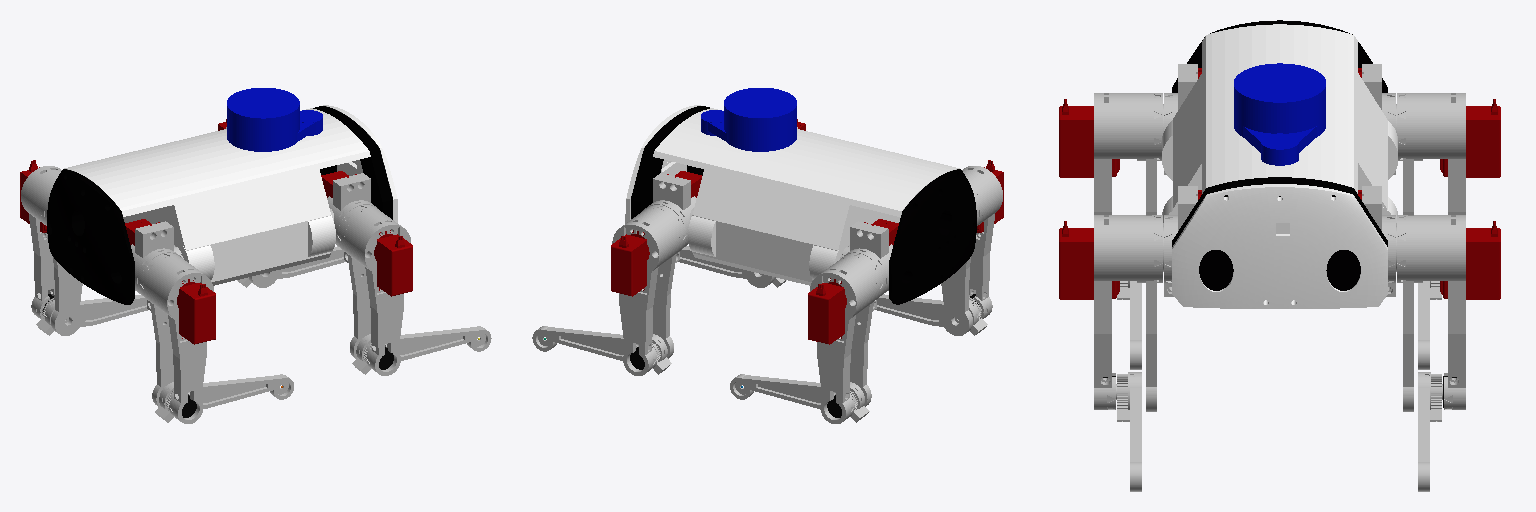
robot.urdf — brian:
<?xml version="1.0"?>
<robot name="brian">
  <link name="base_link">
    <visual>
      <geometry>
        <mesh filename= "package://brian_description/mesh_files/dae_files/base.dae"/>
      </geometry>
    </visual>
    <inertial>
      <origin xyz="0.000 0.000 0.000" rpy ="0.000 0.000 0.000"/>
      <mass value="2.000"/>
      <inertia
        ixx="0.03562" ixy="0.00000" ixz="0.00000"
        iyy="0.04262" iyz="0.00000"
        izz="0.04508"/>
    </inertial>
    <collision>
      <origin xyz="0.000 0.000 0.000" rpy ="0.000 0.000 0.000"/>
      <geometry>
        <mesh filename= "package://brian_description/mesh_files/stl_files/base.stl"/>
      </geometry>
    </collision>
  </link>

  <link name="lidar_link">
    <visual>
      <geometry>
        <mesh filename= "package://brian_description/mesh_files/dae_files/lidar.dae"/>
      </geometry>
    </visual>
    <inertial>
      <origin xyz="0.000 0.000 0.000" rpy ="0.000 0.000 0.000"/>
      <mass value="0.050"/>
      <inertia
        ixx="0.00092" ixy="0.00000" ixz="0.00001"
        iyy="0.00094" iyz="0.00000"
        izz="0.00093"/>
    </inertial>
    <collision>
      <origin xyz="0.000 0.000 0.000" rpy ="0.000 0.000 0.000"/>
      <geometry>
        <mesh filename= "package://brian_description/mesh_files/stl_files/lidar.stl"/>
      </geometry>
    </collision>
  </link>

  <link name="hip_fl_ref">
    <visual>
      <geometry>
        <box size="0.002 0.002 0.002"/>
      </geometry>
    </visual>
    <inertial>
      <origin xyz="0.000 0.000 0.000" rpy ="0.000 0.000 0.000"/>
      <mass value="0.000"/>
      <inertia
        ixx="0.00000" ixy="0.00000" ixz="0.00000"
        iyy="0.00000" iyz="0.00000"
        izz="0.00000"/>
    </inertial>
    <collision>
      <origin xyz="0.000 0.000 0.000" rpy ="0.000 0.000 0.000"/>
      <geometry>
        <box size="0.002 0.002 0.002"/>
      </geometry>
    </collision>
  </link>

  <link name="hip_fr_ref">
    <visual>
      <geometry>
        <box size="0.002 0.002 0.002"/>
      </geometry>
    </visual>
    <inertial>
      <origin xyz="0.000 0.000 0.000" rpy ="0.000 0.000 0.000"/>
      <mass value="0.000"/>
      <inertia
        ixx="0.00000" ixy="0.00000" ixz="0.00000"
        iyy="0.00000" iyz="0.00000"
        izz="0.00000"/>
    </inertial>
    <collision>
      <origin xyz="0.000 0.000 0.000" rpy ="0.000 0.000 0.000"/>
      <geometry>
        <box size="0.002 0.002 0.002"/>
      </geometry>
    </collision>
  </link>

  <link name="hip_bl_ref">
    <visual>
      <geometry>
        <box size="0.002 0.002 0.002"/>
      </geometry>
    </visual>
    <inertial>
      <origin xyz="0.000 0.000 0.000" rpy ="0.000 0.000 0.000"/>
      <mass value="0.000"/>
      <inertia
        ixx="0.00000" ixy="0.00000" ixz="0.00000"
        iyy="0.00000" iyz="0.00000"
        izz="0.00000"/>
    </inertial>
    <collision>
      <origin xyz="0.000 0.000 0.000" rpy ="0.000 0.000 0.000"/>
      <geometry>
        <box size="0.002 0.002 0.002"/>
      </geometry>
    </collision>
  </link>

  <link name="hip_br_ref">
    <visual>
      <geometry>
        <box size="0.002 0.002 0.002"/>
      </geometry>
    </visual>
    <inertial>
      <origin xyz="0.000 0.000 0.000" rpy ="0.000 0.000 0.000"/>
      <mass value="0.000"/>
      <inertia
        ixx="0.00000" ixy="0.00000" ixz="0.00000"
        iyy="0.00000" iyz="0.00000"
        izz="0.00000"/>
    </inertial>
    <collision>
      <origin xyz="0.000 0.000 0.000" rpy ="0.000 0.000 0.000"/>
      <geometry>
        <box size="0.002 0.002 0.002"/>
      </geometry>
    </collision>
  </link>

  <link name="hip_fl_link">
    <visual>
      <geometry>
        <mesh filename= "package://brian_description/mesh_files/dae_files/hip_fl.dae"/>
      </geometry>
    </visual>
    <inertial>
      <origin xyz="0.000 0.000 0.000" rpy ="0.000 0.000 0.000"/>
      <mass value="0.233"/>
      <inertia
        ixx="0.00216" ixy="-0.00001" ixz="0.00001"
        iyy="0.00216" iyz="0.00001"
        izz="0.00211"/>
    </inertial>
    <collision>
      <origin xyz="0.000 0.000 0.000" rpy ="0.000 0.000 0.000"/>
      <geometry>
        <mesh filename= "package://brian_description/mesh_files/stl_files/hip_fl.stl"/>
      </geometry>
    </collision>
  </link>

  <link name="hip_fr_link">
    <visual>
      <geometry>
        <mesh filename= "package://brian_description/mesh_files/dae_files/hip_fr.dae"/>
      </geometry>
    </visual>
    <inertial>
      <origin xyz="0.000 0.000 0.000" rpy ="0.000 0.000 0.000"/>
      <mass value="0.233"/>
      <inertia
        ixx="0.00216" ixy="0.00001" ixz="0.00001"
        iyy="0.00216" iyz="-0.00001"
        izz="0.00211"/>
    </inertial>
    <collision>
      <origin xyz="0.000 0.000 0.000" rpy ="0.000 0.000 0.000"/>
      <geometry>
        <mesh filename= "package://brian_description/mesh_files/stl_files/hip_fr.stl"/>
      </geometry>
    </collision>
  </link>

  <link name="hip_bl_link">
    <visual>
      <geometry>
        <mesh filename= "package://brian_description/mesh_files/dae_files/hip_bl.dae"/>
      </geometry>
    </visual>
    <inertial>
      <origin xyz="0.000 0.000 0.000" rpy ="0.000 0.000 0.000"/>
      <mass value="0.233"/>
      <inertia
        ixx="0.00216" ixy="0.00001" ixz="-0.00001"
        iyy="0.00216" iyz="0.00001"
        izz="0.00211"/>
    </inertial>
    <collision>
      <origin xyz="0.000 0.000 0.000" rpy ="0.000 0.000 0.000"/>
      <geometry>
        <mesh filename= "package://brian_description/mesh_files/stl_files/hip_bl.stl"/>
      </geometry>
    </collision>
  </link>

  <link name="hip_br_link">
    <visual>
      <geometry>
        <mesh filename= "package://brian_description/mesh_files/dae_files/hip_br.dae"/>
      </geometry>
    </visual>
    <inertial>
      <origin xyz="0.000 0.000 0.000" rpy ="0.000 0.000 0.000"/>
      <mass value="0.233"/>
      <inertia
        ixx="0.00216" ixy="-0.00001" ixz="-0.00001"
        iyy="0.00216" iyz="-0.00001"
        izz="0.00211"/>
    </inertial>
    <collision>
      <origin xyz="0.000 0.000 0.000" rpy ="0.000 0.000 0.000"/>
      <geometry>
        <mesh filename= "package://brian_description/mesh_files/stl_files/hip_br.stl"/>
      </geometry>
    </collision>
  </link>

  <link name="femur_fl_link">
    <visual>
      <geometry>
        <mesh filename= "package://brian_description/mesh_files/dae_files/femur_l.dae"/>
      </geometry>
    </visual>
    <inertial>
      <origin xyz="0.000 0.000 0.000" rpy ="0.000 0.000 0.000"/>
      <mass value="0.084"/>
      <inertia
        ixx="0.00414" ixy="0.00000" ixz="0.00000"
        iyy="0.00410" iyz="0.00006"
        izz="0.00386"/>
    </inertial>
    <collision>
      <origin xyz="0.000 0.000 0.000" rpy ="0.000 0.000 0.000"/>
      <geometry>
        <mesh filename= "package://brian_description/mesh_files/stl_files/femur_l.stl"/>
      </geometry>
    </collision>
  </link>

  <link name="femur_fr_link">
    <visual>
      <geometry>
        <mesh filename= "package://brian_description/mesh_files/dae_files/femur_r.dae"/>
      </geometry>
    </visual>
    <inertial>
      <origin xyz="0.000 0.000 0.000" rpy ="0.000 0.000 0.000"/>
      <mass value="0.084"/>
      <inertia
        ixx="0.00414" ixy="0.00000" ixz="0.00000"
        iyy="0.00410" iyz="-0.00006"
        izz="0.00386"/>
    </inertial>
    <collision>
      <origin xyz="0.000 0.000 0.000" rpy ="0.000 0.000 0.000"/>
      <geometry>
        <mesh filename= "package://brian_description/mesh_files/stl_files/femur_r.stl"/>
      </geometry>
    </collision>
  </link>

  <link name="femur_bl_link">
    <visual>
      <geometry>
        <mesh filename= "package://brian_description/mesh_files/dae_files/femur_l.dae"/>
      </geometry>
    </visual>
    <inertial>
      <origin xyz="0.000 0.000 0.000" rpy ="0.000 0.000 0.000"/>
      <mass value="0.084"/>
      <inertia
        ixx="0.00414" ixy="0.00000" ixz="0.00000"
        iyy="0.00410" iyz="0.00006"
        izz="0.00386"/>
    </inertial>
    <collision>
      <origin xyz="0.000 0.000 0.000" rpy ="0.000 0.000 0.000"/>
      <geometry>
        <mesh filename= "package://brian_description/mesh_files/stl_files/femur_l.stl"/>
      </geometry>
    </collision>
  </link>

  <link name="femur_br_link">
    <visual>
      <geometry>
        <mesh filename= "package://brian_description/mesh_files/dae_files/femur_r.dae"/>
      </geometry>
    </visual>
    <inertial>
      <origin xyz="0.000 0.000 0.000" rpy ="0.000 0.000 0.000"/>
      <mass value="0.084"/>
      <inertia
        ixx="0.00414" ixy="0.00000" ixz="0.00000"
        iyy="0.00410" iyz="-0.00006"
        izz="0.00386"/>
    </inertial>
    <collision>
      <origin xyz="0.000 0.000 0.000" rpy ="0.000 0.000 0.000"/>
      <geometry>
        <mesh filename= "package://brian_description/mesh_files/stl_files/femur_r.stl"/>
      </geometry>
    </collision>
  </link>

  <link name="tibia_fl_link">
    <visual>
      <geometry>
        <mesh filename= "package://brian_description/mesh_files/dae_files/tibia_l.dae"/>
      </geometry>
    </visual>
    <inertial>
      <origin xyz="0.000 0.000 0.000" rpy ="0.000 0.000 0.000"/>
      <mass value="0.034"/>
      <inertia
        ixx="0.00159" ixy="0.00000" ixz="-0.00001"
        iyy="0.00159" iyz="0.00000"
        izz="0.00147"/>
    </inertial>
    <collision>
      <origin xyz="0.000 0.000 0.000" rpy ="0.000 0.000 0.000"/>
      <geometry>
        <mesh filename= "package://brian_description/mesh_files/stl_files/tibia_l.stl"/>
      </geometry>
    </collision>
  </link>

  <link name="tibia_fr_link">
    <visual>
      <geometry>
        <mesh filename= "package://brian_description/mesh_files/dae_files/tibia_r.dae"/>
      </geometry>
    </visual>
    <inertial>
      <origin xyz="0.000 0.000 0.000" rpy ="0.000 0.000 0.000"/>
      <mass value="0.034"/>
      <inertia
        ixx="0.00159" ixy="0.00000" ixz="-0.00001"
        iyy="0.00159" iyz="0.00000"
        izz="0.00147"/>
    </inertial>
    <collision>
      <origin xyz="0.000 0.000 0.000" rpy ="0.000 0.000 0.000"/>
      <geometry>
        <mesh filename= "package://brian_description/mesh_files/stl_files/tibia_r.stl"/>
      </geometry>
    </collision>
  </link>

  <link name="tibia_bl_link">
    <visual>
      <geometry>
        <mesh filename= "package://brian_description/mesh_files/dae_files/tibia_l.dae"/>
      </geometry>
    </visual>
    <inertial>
      <origin xyz="0.000 0.000 0.000" rpy ="0.000 0.000 0.000"/>
      <mass value="0.034"/>
      <inertia
        ixx="0.00159" ixy="0.00000" ixz="-0.00001"
        iyy="0.00159" iyz="0.00000"
        izz="0.00147"/>
    </inertial>
    <collision>
      <origin xyz="0.000 0.000 0.000" rpy ="0.000 0.000 0.000"/>
      <geometry>
        <mesh filename= "package://brian_description/mesh_files/stl_files/tibia_l.stl"/>
      </geometry>
    </collision>
  </link>

  <link name="tibia_br_link">
    <visual>
      <geometry>
        <mesh filename= "package://brian_description/mesh_files/dae_files/tibia_r.dae"/>
      </geometry>
    </visual>
    <inertial>
      <origin xyz="0.000 0.000 0.000" rpy ="0.000 0.000 0.000"/>
      <mass value="0.034"/>
      <inertia
        ixx="0.00159" ixy="0.00000" ixz="-0.00001"
        iyy="0.00159" iyz="0.00000"
        izz="0.00147"/>
    </inertial>
    <collision>
      <origin xyz="0.000 0.000 0.000" rpy ="0.000 0.000 0.000"/>
      <geometry>
        <mesh filename= "package://brian_description/mesh_files/stl_files/tibia_r.stl"/>
      </geometry>
    </collision>
  </link>

  <link name="feet_fl">
    <visual>
      <geometry>
        <sphere radius="0.001"/>
      </geometry>
    </visual>
    <inertial>
      <origin xyz="0.000 0.000 0.000" rpy ="0.000 0.000 0.000"/>
      <mass value="0.010"/>
      <inertia
        ixx="0.00009" ixy="0.00000" ixz="0.00000"
        iyy="0.00009" iyz="0.00000"
        izz="0.00009"/>
    </inertial>
    <collision>
      <origin xyz="0.000 0.000 0.000" rpy ="0.000 0.000 0.000"/>
      <geometry>
        <box size="0.011 0.011 0.011"/>
      </geometry>
    </collision>
  </link>

  <link name="feet_fr">
    <visual>
      <geometry>
        <sphere radius="0.001"/>
      </geometry>
    </visual>
    <inertial>
      <origin xyz="0.000 0.000 0.000" rpy ="0.000 0.000 0.000"/>
      <mass value="0.010"/>
      <inertia
        ixx="0.00009" ixy="0.00000" ixz="0.00000"
        iyy="0.00009" iyz="0.00000"
        izz="0.00009"/>
    </inertial>
    <collision>
      <origin xyz="0.000 0.000 0.000" rpy ="0.000 0.000 0.000"/>
      <geometry>
        <box size="0.011 0.011 0.011"/>
      </geometry>
    </collision>
  </link>

  <link name="feet_bl">
    <visual>
      <geometry>
        <sphere radius="0.001"/>
      </geometry>
    </visual>
    <inertial>
      <origin xyz="0.000 0.000 0.000" rpy ="0.000 0.000 0.000"/>
      <mass value="0.010"/>
      <inertia
        ixx="0.00009" ixy="0.00000" ixz="0.00000"
        iyy="0.00009" iyz="0.00000"
        izz="0.00009"/>
    </inertial>
    <collision>
      <origin xyz="0.000 0.000 0.000" rpy ="0.000 0.000 0.000"/>
      <geometry>
        <box size="0.011 0.011 0.011"/>
      </geometry>
    </collision>
  </link>

  <link name="feet_br">
    <visual>
      <geometry>
        <sphere radius="0.001"/>
      </geometry>
    </visual>
    <inertial>
      <origin xyz="0.000 0.000 0.000" rpy ="0.000 0.000 0.000"/>
      <mass value="0.010"/>
      <inertia
        ixx="0.00009" ixy="0.00000" ixz="0.00000"
        iyy="0.00009" iyz="0.00000"
        izz="0.00009"/>
    </inertial>
    <collision>
      <origin xyz="0.000 0.000 0.000" rpy ="0.000 0.000 0.000"/>
      <geometry>
        <box size="0.011 0.011 0.011"/>
      </geometry>
    </collision>
  </link>





  <joint name="lidar" type="fixed" dont_collapse="true">
    <parent link="base_link"/>
    <child  link="lidar_link"/>
    <origin xyz="0.04312 0.00000 0.08341"/>
  </joint>

  <joint name="fl_ref" type="fixed" dont_collapse="true">
    <parent link="base_link"/>
    <child  link="hip_fl_ref"/>
    <origin xyz="0.09170 0.05355 -0.00279"/>
  </joint>

  <joint name="fr_ref" type="fixed" dont_collapse="true">
    <parent link="base_link"/>
    <child  link="hip_fr_ref"/>
    <origin xyz="0.09170 -0.05355 -0.00279"/>
  </joint>

  <joint name="bl_ref" type="fixed" dont_collapse="true">
    <parent link="base_link"/>
    <child  link="hip_bl_ref"/>
    <origin xyz="-0.09170 0.05355 -0.00279"/>
  </joint>

  <joint name="br_ref" type="fixed" dont_collapse="true">
    <parent link="base_link"/>
    <child  link="hip_br_ref"/>
    <origin xyz="-0.09170 -0.05355 -0.00279"/>
  </joint>

  <joint name="hip1_fl" type="revolute">
    <axis xyz="1.000 0.000 0.000"/>
    <limit effort="80.00000" lower="-1.571" upper="1.2010" velocity="1.04720"/>
    <parent link="hip_fl_ref"/>
    <child  link="hip_fl_link"/>
    <origin xyz="0.00000 0.00000 0.00000"/>
  </joint>

  <joint name="hip1_fr" type="revolute">
    <axis xyz="1.000 0.000 0.000"/>
    <limit effort="80.00000" lower="-1.2010" upper="1.571" velocity="1.04720"/>
    <parent link="hip_fr_ref"/>
    <child  link="hip_fr_link"/>
    <origin xyz="0.00000 0.00000 0.00000"/>
  </joint>

  <joint name="hip1_bl" type="revolute">
    <axis xyz="1.000 0.000 0.000"/>
    <limit effort="80.00000" lower="-1.571" upper="1.2010" velocity="1.04720"/>
    <parent link="hip_bl_ref"/>
    <child  link="hip_bl_link"/>
    <origin xyz="0.00000 0.00000 0.00000"/>
  </joint>

  <joint name="hip1_br" type="revolute">
    <axis xyz="1.000 0.000 0.000"/>
    <limit effort="80.00000" lower="-1.2010" upper="1.571" velocity="1.04720"/>
    <parent link="hip_br_ref"/>
    <child  link="hip_br_link"/>
    <origin xyz="0.00000 0.00000 0.00000"/>
  </joint>

  <joint name="hip2_fl" type="revolute">
    <axis xyz="0.000 1.000 0.000"/>
    <limit effort="80.00000" lower="0.00000" upper="2.35619" velocity="1.04720"/>
    <parent link="hip_fl_link"/>
    <child  link="femur_fl_link"/>
    <origin xyz="0.00000 0.03559 0.00000"/>
  </joint>

  <joint name="hip2_fr" type="revolute">
    <axis xyz="0.000 1.000 0.000"/>
    <limit effort="80.00000" lower="0.00000" upper="2.35619" velocity="1.04720"/>
    <parent link="hip_fr_link"/>
    <child  link="femur_fr_link"/>
    <origin xyz="0.00000 -0.03559 0.00000"/>
  </joint>

  <joint name="hip2_bl" type="revolute">
    <axis xyz="0.000 1.000 0.000"/>
    <limit effort="80.00000" lower="0.00000" upper="2.35619" velocity="1.04720"/>
    <parent link="hip_bl_link"/>
    <child  link="femur_bl_link"/>
    <origin xyz="0.00000 0.03559 0.00000"/>
  </joint>

  <joint name="hip2_br" type="revolute">
    <axis xyz="0.000 1.000 0.000"/>
    <limit effort="80.00000" lower="0.00000" upper="2.35619" velocity="1.04720"/>
    <parent link="hip_br_link"/>
    <child  link="femur_br_link"/>
    <origin xyz="0.00000 -0.03559 0.00000"/>
  </joint>

  <joint name="knee_fl" type="revolute">
    <axis xyz="0.000 1.000 0.000"/>
    <limit effort="80.00000" lower="-2.35619" upper="-0.52360" velocity="1.04720"/>
    <parent link="femur_fl_link"/>
    <child  link="tibia_fl_link"/>
    <origin xyz="0.00000 0.01071 -0.09996"/>
  </joint>

  <joint name="knee_fr" type="revolute">
    <axis xyz="0.000 1.000 0.000"/>
    <limit effort="80.00000" lower="-2.35619" upper="-0.52360" velocity="1.04720"/>
    <parent link="femur_fr_link"/>
    <child  link="tibia_fr_link"/>
    <origin xyz="0.00000 -0.01071 -0.09996"/>
  </joint>

  <joint name="knee_bl" type="revolute">
    <axis xyz="0.000 1.000 0.000"/>
    <limit effort="80.00000" lower="-2.35619" upper="-0.52360" velocity="1.04720"/>
    <parent link="femur_bl_link"/>
    <child  link="tibia_bl_link"/>
    <origin xyz="0.00000 0.01071 -0.09996"/>
  </joint>

  <joint name="knee_br" type="revolute">
    <axis xyz="0.000 1.000 0.000"/>
    <limit effort="80.00000" lower="-2.35619" upper="-0.52360" velocity="1.04720"/>
    <parent link="femur_br_link"/>
    <child  link="tibia_br_link"/>
    <origin xyz="0.00000 -0.01071 -0.09996"/>
  </joint>

  <joint name="feet_fl_ref" type="fixed" dont_collapse="true">
    <parent link="tibia_fl_link"/>
    <child  link="feet_fl"/>
    <origin xyz="0.00000 -0.00834 -0.10000"/>
  </joint>

  <joint name="feet_fr_ref" type="fixed" dont_collapse="true">
    <parent link="tibia_fr_link"/>
    <child  link="feet_fr"/>
    <origin xyz="0.00000 0.00834 -0.10000"/>
  </joint>

  <joint name="feet_bl_ref" type="fixed" dont_collapse="true">
    <parent link="tibia_bl_link"/>
    <child  link="feet_bl"/>
    <origin xyz="0.00000 -0.00834 -0.10000"/>
  </joint>

  <joint name="feet_br_ref" type="fixed" dont_collapse="true">
    <parent link="tibia_br_link"/>
    <child  link="feet_br"/>
    <origin xyz="0.00000 0.00834 -0.10000"/>
  </joint>

</robot>

--- Render facts (derived) ---
Views: 3 orthographic renders of the robot side by side, from view 1: azimuth 30°, elevation 25°; view 2: azimuth 150°, elevation 25°; view 3: azimuth 270°, elevation 25°.
Model brian with 22 links and 21 joints (12 revolute, 9 fixed), rooted at base_link, posed all joints at 0 but 4 set to mid-range because 0 is outside their limits (knee_fl = -1.44, knee_fr = -1.44, knee_bl = -1.44, knee_br = -1.44).
Visible links, largest first — view 1: base_link, femur_br_link, femur_fr_link, femur_bl_link, lidar_link, tibia_br_link, tibia_fr_link, hip_br_link, hip_fr_link, tibia_bl_link, tibia_fl_link; view 2: base_link, femur_bl_link, femur_fl_link, femur_br_link, lidar_link, tibia_fl_link, tibia_bl_link, hip_bl_link, hip_fl_link, tibia_br_link, tibia_fr_link; view 3: base_link, femur_fl_link, femur_fr_link, femur_bl_link, femur_br_link, lidar_link, tibia_fr_link, tibia_fl_link, hip_fl_link, hip_fr_link, tibia_br_link, tibia_bl_link (+2 smaller).
Link boxes in pixels (<box>): base_link: <box>47,105,397,304</box>; femur_br_link: <box>140,253,215,423</box>; femur_fr_link: <box>338,205,412,375</box>; femur_bl_link: <box>20,160,82,335</box>; lidar_link: <box>227,88,322,151</box>; tibia_br_link: <box>155,374,293,422</box>; tibia_fr_link: <box>352,326,491,374</box>; hip_br_link: <box>125,219,183,310</box>; hip_fr_link: <box>321,171,377,262</box>; tibia_bl_link: <box>36,294,147,335</box>; tibia_fl_link: <box>237,246,345,287</box>; base_link: <box>625,105,976,304</box>; femur_bl_link: <box>808,253,883,423</box>; femur_fl_link: <box>611,205,685,375</box>; femur_br_link: <box>941,160,1003,335</box>; lidar_link: <box>701,88,796,151</box>; tibia_fl_link: <box>532,326,671,374</box>; tibia_bl_link: <box>730,374,869,422</box>; hip_bl_link: <box>840,219,898,310</box>; hip_fl_link: <box>643,171,701,262</box>; tibia_br_link: <box>875,294,987,335</box>; tibia_fr_link: <box>678,246,786,287</box>; base_link: <box>1162,20,1397,308</box>; femur_fl_link: <box>1396,215,1500,411</box>; femur_fr_link: <box>1059,215,1163,411</box>; femur_bl_link: <box>1396,93,1500,214</box>; femur_br_link: <box>1059,93,1163,214</box>; lidar_link: <box>1234,63,1325,165</box>; tibia_fr_link: <box>1103,372,1141,491</box>; tibia_fl_link: <box>1418,372,1456,491</box>; hip_fl_link: <box>1358,186,1395,296</box>; hip_fr_link: <box>1164,186,1201,296</box>; tibia_br_link: <box>1117,281,1141,369</box>; tibia_bl_link: <box>1418,281,1441,369</box>.
Size in the robot's own frame: 0.331 by 0.2812 by 0.2166 metres.
14 mesh visuals loaded from 10 distinct referenced files (10 Collada DAE).
